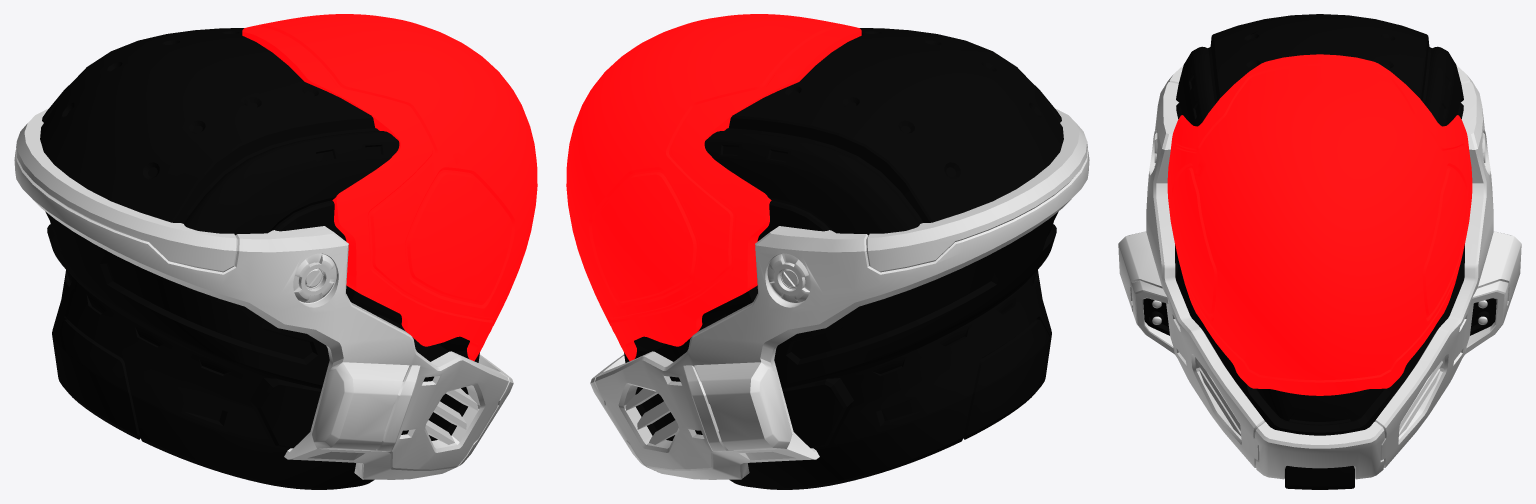
Rendered from helmet.fbx.
3 renders of one model, left to right at view 1: azimuth 30°, elevation 25°; view 2: azimuth 150°, elevation 25°; view 3: azimuth 270°, elevation 25°, orthographic. The views are drawn at different scales.
Parts seen in each view (by area): view 1: Sphere.005, MainHelmet.032, MainHelmet.033, MainHelmet.036, MainHelmet.035, MainHelmet.037, MainHelmet.034; view 2: Sphere.005, MainHelmet.032, MainHelmet.033, MainHelmet.036, MainHelmet.035, MainHelmet.037, MainHelmet.034; view 3: Sphere.005, MainHelmet.033, MainHelmet.032, MainHelmet.034, Cube.017, MainHelmet.037.
Boxes of the visible parts, bbox=[...] form: Sphere.005: bbox=[242, 14, 537, 360]; MainHelmet.032: bbox=[40, 28, 399, 235]; MainHelmet.033: bbox=[14, 108, 513, 479]; MainHelmet.036: bbox=[45, 211, 374, 489]; MainHelmet.035: bbox=[274, 200, 346, 241]; MainHelmet.037: bbox=[425, 388, 477, 444]; MainHelmet.034: bbox=[377, 314, 479, 362]; Sphere.005: bbox=[566, 14, 861, 360]; MainHelmet.032: bbox=[704, 28, 1063, 235]; MainHelmet.033: bbox=[590, 108, 1089, 479]; MainHelmet.036: bbox=[729, 211, 1058, 489]; MainHelmet.035: bbox=[757, 200, 829, 241]; MainHelmet.037: bbox=[626, 388, 678, 444]; MainHelmet.034: bbox=[624, 314, 726, 362]; Sphere.005: bbox=[1167, 54, 1472, 395]; MainHelmet.033: bbox=[1118, 65, 1521, 479]; MainHelmet.032: bbox=[1176, 14, 1463, 126]; MainHelmet.034: bbox=[1175, 244, 1464, 435]; Cube.017: bbox=[1285, 466, 1354, 489]; MainHelmet.037: bbox=[1197, 361, 1442, 435].
Size of the model in its own units: 149 by 133 by 131.
